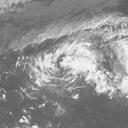cyclone: (17, 14, 121, 98)
